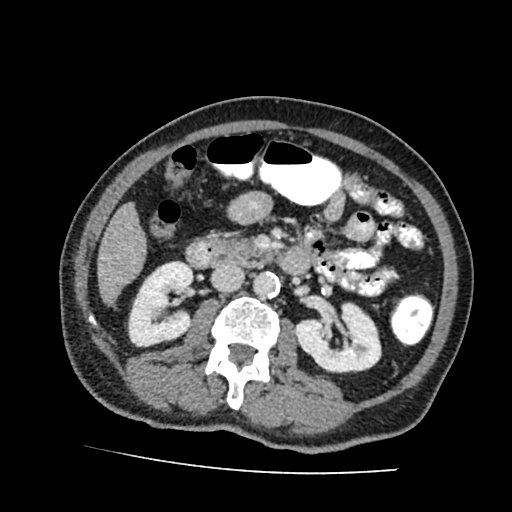aorta: (250, 271, 282, 300)
